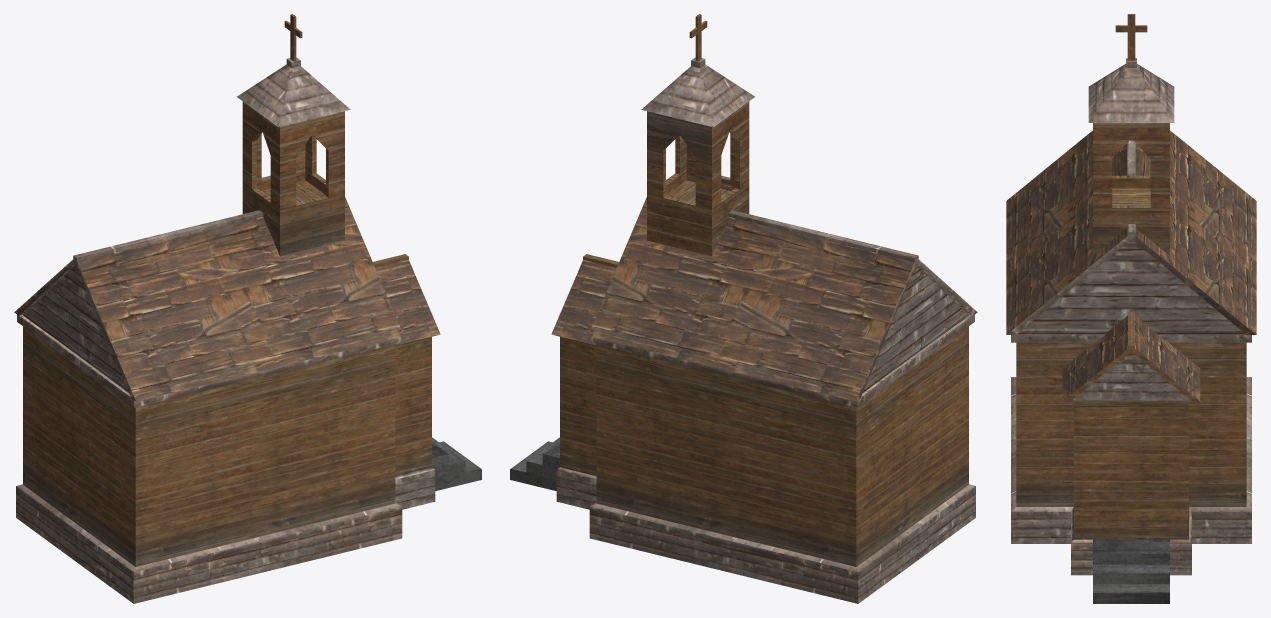
File: Church.FBX
The picture shows the model from 3 angles, left to right: view 1: azimuth 30°, elevation 25°; view 2: azimuth 150°, elevation 25°; view 3: azimuth 270°, elevation 25°; orthographic projection. The views are drawn at different scales.
Parts seen in each view (by area): view 1: polySurface1; view 2: polySurface1; view 3: polySurface1.
Boxes of the visible parts, x1=… form: polySurface1: x1=14, y1=14, x2=481, y2=603; polySurface1: x1=510, y1=14, x2=977, y2=603; polySurface1: x1=1006, y1=14, x2=1256, y2=603.
Bounding box in the file's own units: 0.1196 × 0.0651 × 0.1448.
Materials: 1 (1 with a texture image).
